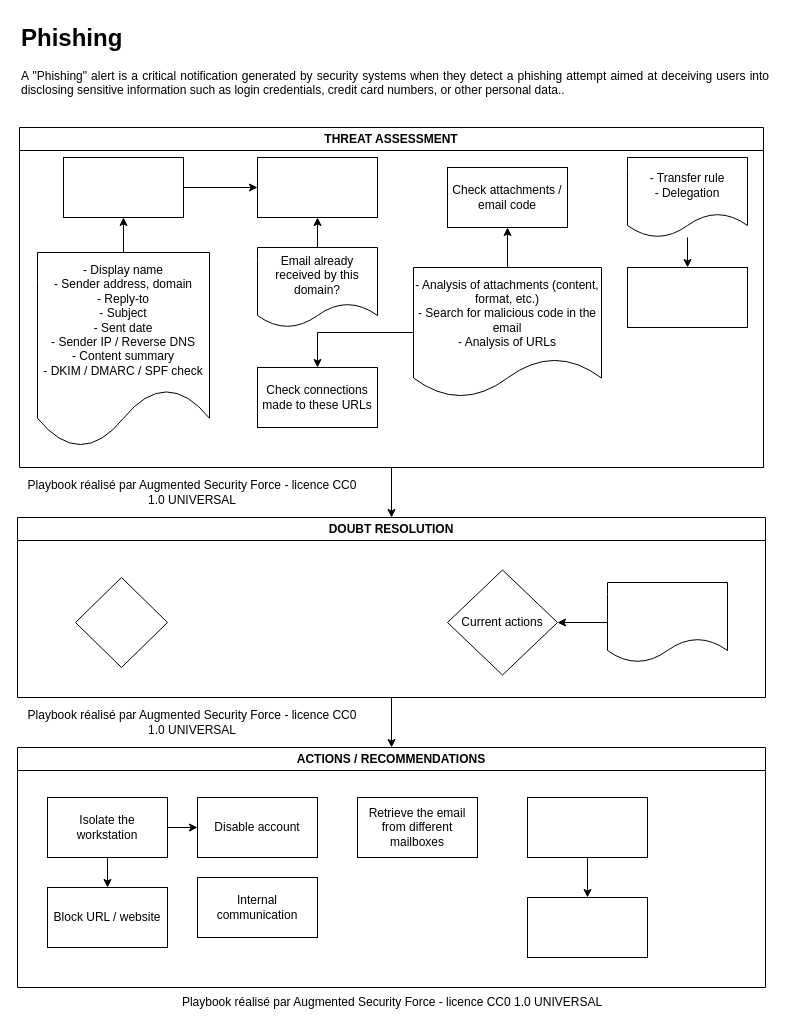
The diagram is 787 pixels wide and 1034 high, and some of its shapes have lost their labels. Each missing label, with the centre of its shape:
Block the sender: point 587,827
Block the sender's domain: point 587,927
Identify the recipients: point 687,297
Known issue ?: point 121,622
Phishing exercice in action ?: point 667,622
Retrieve the email / headers: point 123,187
Search for previous instances: point 317,187
